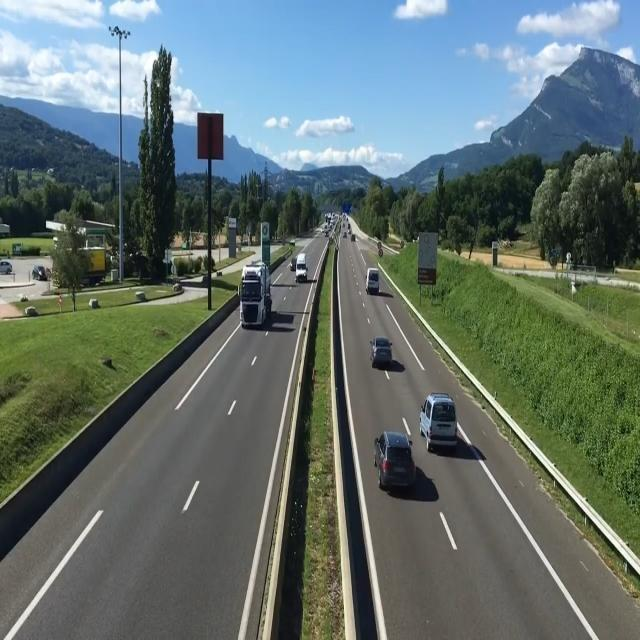Bus: (233, 258, 275, 336)
Car: (413, 390, 461, 450), (370, 430, 416, 492), (364, 326, 396, 370), (287, 256, 297, 269)
Van: (362, 264, 384, 296), (294, 252, 308, 282)
